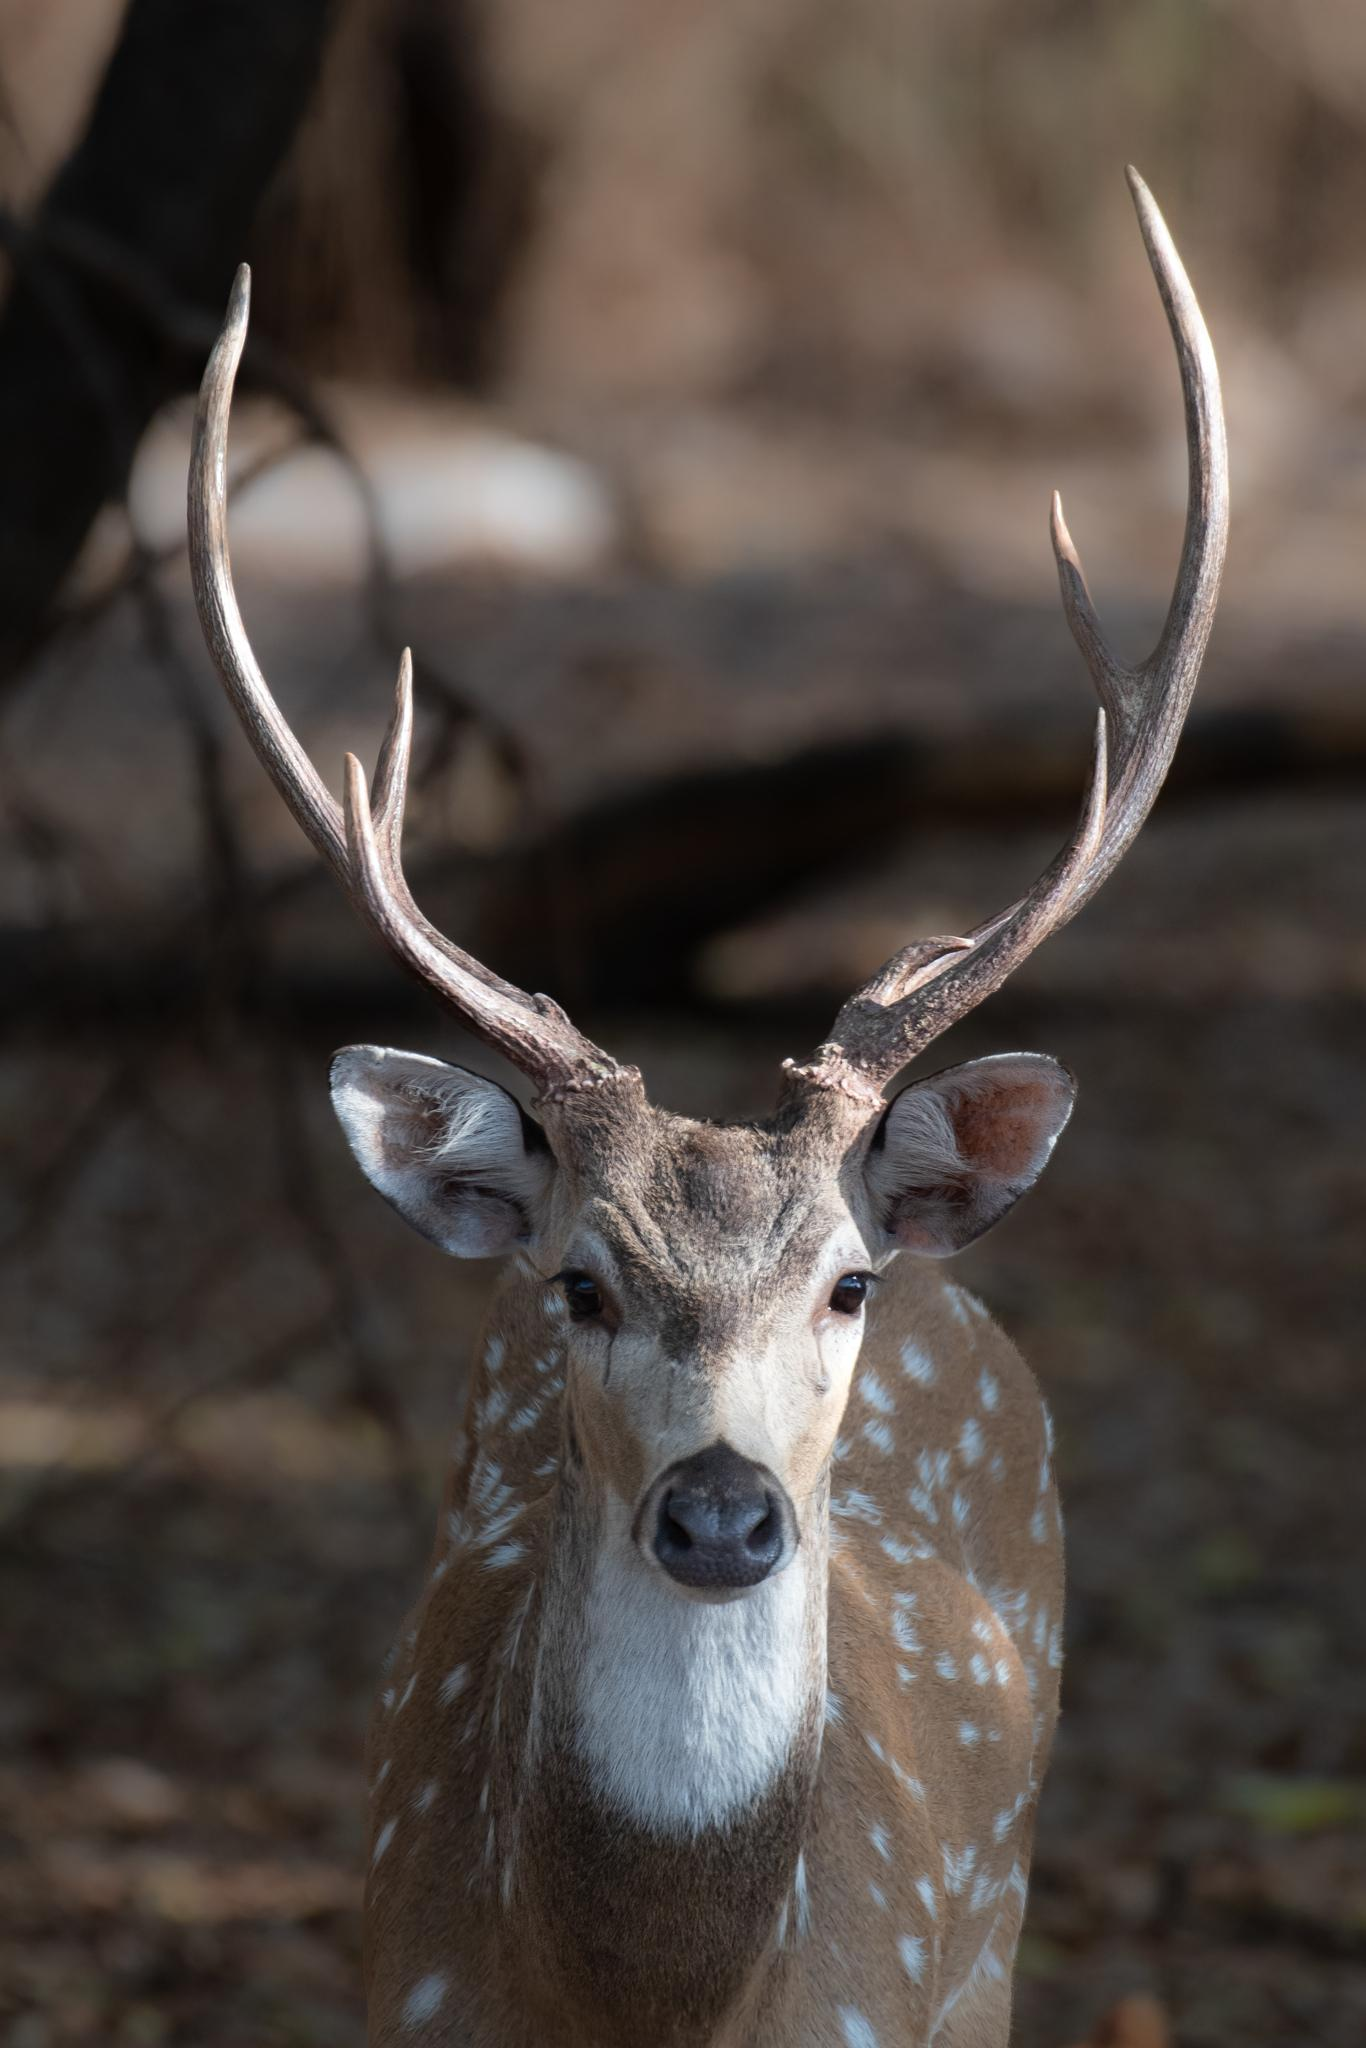Deer: (192, 189, 1224, 2046)
